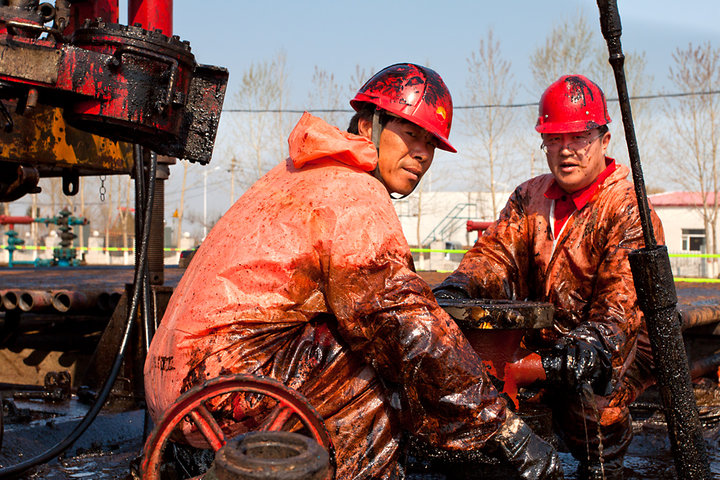helmet: (339, 46, 462, 199), (523, 69, 618, 191)
